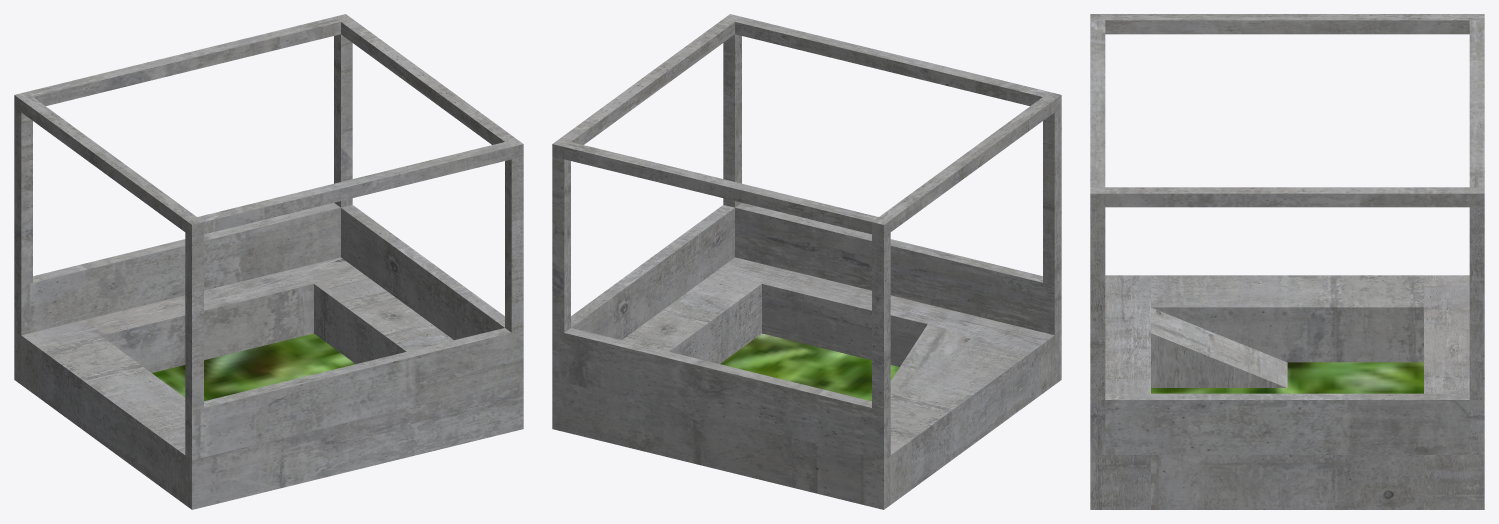
3 renders of one model, left to right at view 1: azimuth 30°, elevation 25°; view 2: azimuth 150°, elevation 25°; view 3: azimuth 270°, elevation 25°, orthographic. The views are drawn at different scales.
Visible parts, largest first — view 1: Cube.005, Cube, Cube.006, Cube.001, Cube.003, Cube.007, Cube.002, Cube.014, Plane, Cube.015, Cube.013, Cube.012 (+4 smaller); view 2: Cube.006, Cube.001, Cube.005, Cube, Cube.003, Cube.007, Cube.002, Cube.015, Cube.014, Plane, Cube.013, Cube.012 (+5 smaller); view 3: Cube.007, Cube.003, Cube.002, Cube, Cube.001, Cube.012, Cube.013, Cube.004, Plane, Cube.008, Cube.009, Cube.014 (+3 smaller).
Boxes of the visible parts, left/top/right/bottom form: Cube.005: left=185, top=328, right=523, bottom=460; Cube: left=164, top=379, right=523, bottom=509; Cube.006: left=14, top=203, right=340, bottom=335; Cube.001: left=14, top=257, right=360, bottom=399; Cube.003: left=41, top=336, right=185, bottom=489; Cube.007: left=341, top=205, right=504, bottom=340; Cube.002: left=314, top=272, right=453, bottom=363; Cube.014: left=197, top=142, right=511, bottom=234; Plane: left=152, top=333, right=355, bottom=401; Cube.015: left=26, top=17, right=340, bottom=105; Cube.013: left=14, top=92, right=203, bottom=237; Cube.012: left=334, top=14, right=523, bottom=159; Cube.006: left=552, top=328, right=890, bottom=460; Cube.001: left=552, top=379, right=911, bottom=509; Cube.005: left=735, top=203, right=1061, bottom=335; Cube: left=715, top=257, right=1061, bottom=399; Cube.003: left=890, top=336, right=1034, bottom=489; Cube.007: left=571, top=205, right=734, bottom=340; Cube.002: left=622, top=272, right=761, bottom=363; Cube.015: left=564, top=142, right=878, bottom=234; Cube.014: left=735, top=17, right=1049, bottom=105; Plane: left=720, top=333, right=899, bottom=401; Cube.013: left=872, top=92, right=1061, bottom=237; Cube.012: left=552, top=14, right=741, bottom=159; Cube.007: left=1105, top=393, right=1469, bottom=454; Cube.003: left=1151, top=275, right=1423, bottom=362; Cube.002: left=1151, top=455, right=1423, bottom=509; Cube: left=1090, top=275, right=1150, bottom=509; Cube.001: left=1424, top=275, right=1484, bottom=509; Cube.012: left=1090, top=187, right=1484, bottom=207; Cube.013: left=1090, top=14, right=1484, bottom=34; Cube.004: left=1151, top=307, right=1287, bottom=387; Plane: left=1151, top=362, right=1423, bottom=393; Cube.008: left=1090, top=207, right=1105, bottom=399; Cube.009: left=1469, top=207, right=1484, bottom=399; Cube.014: left=1090, top=20, right=1105, bottom=187.
Bounding box in the file's own units: 28 × 23 × 26.
2 materials, 2 textured.
